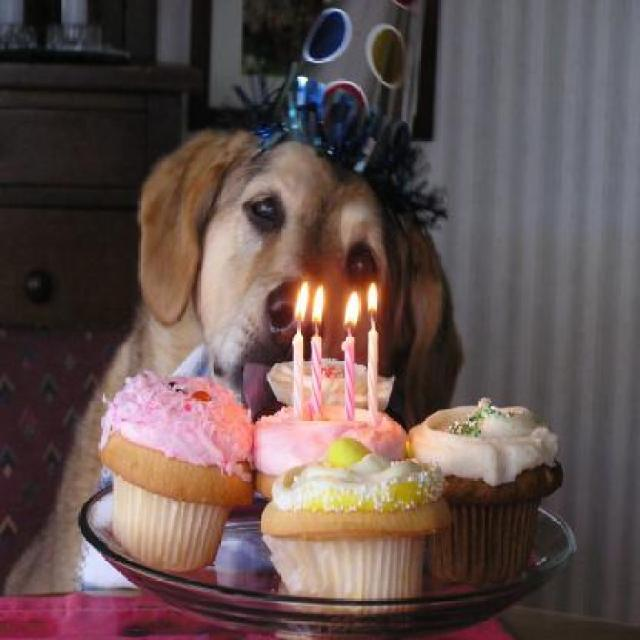Muffin: (252, 432, 456, 612), (99, 370, 258, 570), (404, 394, 566, 584), (244, 398, 408, 496), (267, 352, 396, 417)
